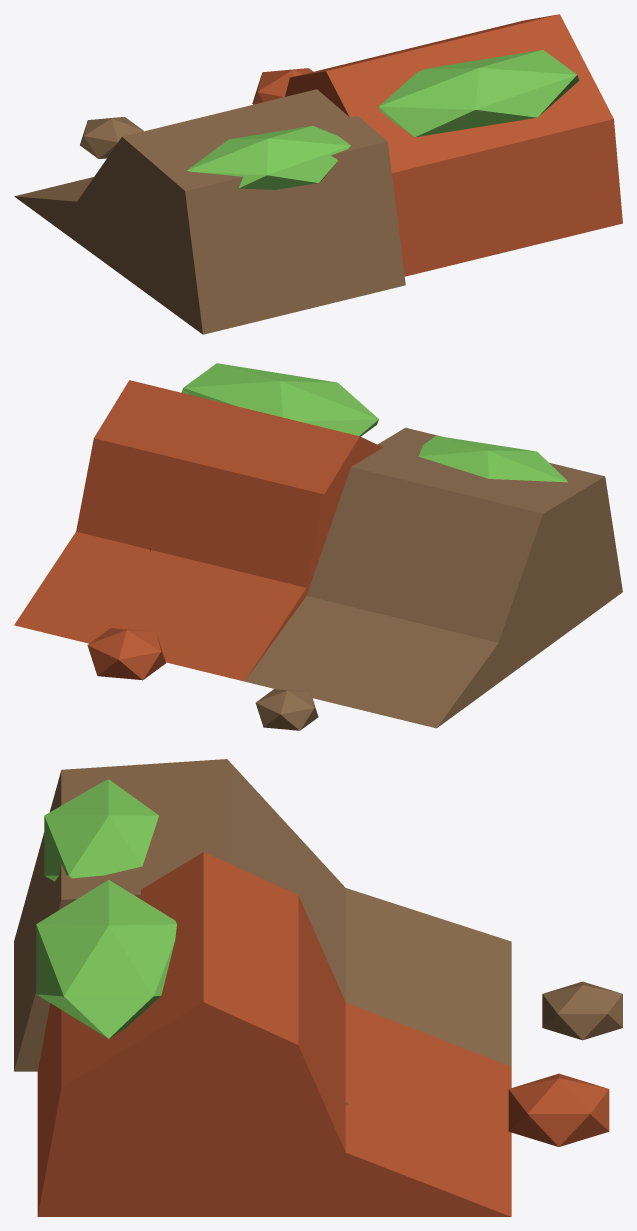
The model's file is barranco_erodido.glb.
3 renders of one model, top to bottom at view 1: azimuth 30°, elevation 25°; view 2: azimuth 150°, elevation 25°; view 3: azimuth 270°, elevation 25°, orthographic. The views are drawn at different scales.
Visible parts, largest first — view 1: corpo; view 2: corpo; view 3: corpo.
Part boxes in pixels (left/top/right/bottom): corpo: left=14, top=14, right=622, bottom=334; corpo: left=14, top=363, right=622, bottom=730; corpo: left=14, top=759, right=622, bottom=1216.
Size of the model in its own units: 0.55 by 0.2155 by 0.514.
